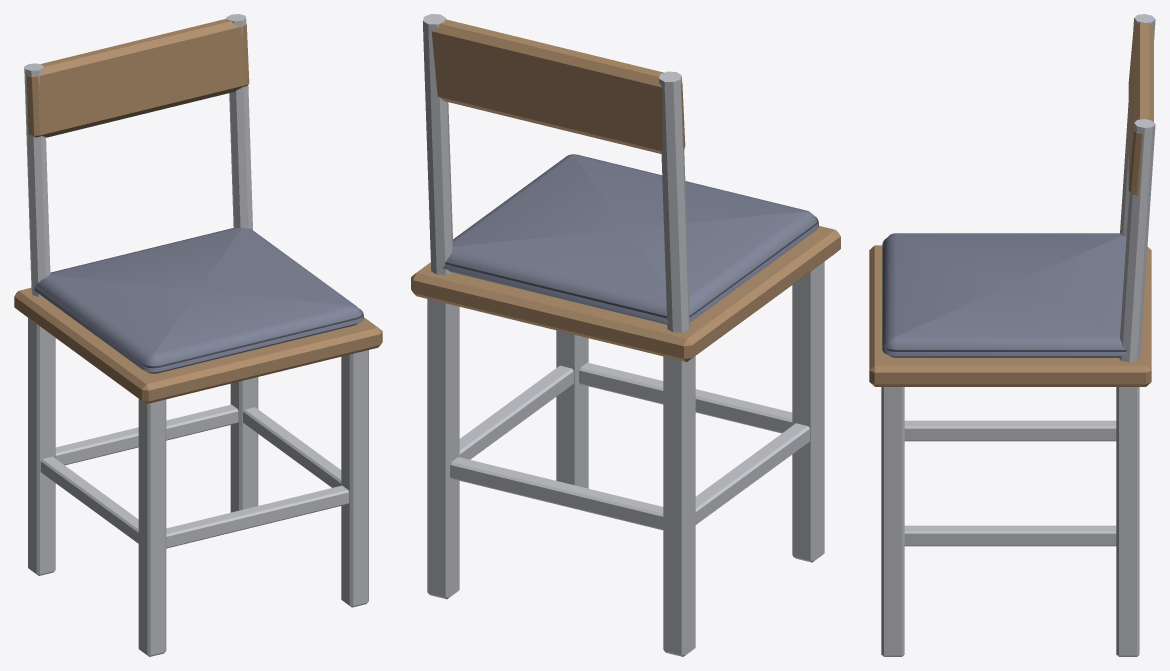
The model's file is orchestra-and-band-instruments-performer-chair-11cd605f__39309.glb.
The picture shows the model from 3 angles, left to right: view 1: azimuth 30°, elevation 25°; view 2: azimuth 150°, elevation 25°; view 3: azimuth 270°, elevation 25°; orthographic projection. The views are drawn at different scales.
Visible parts, largest first — view 1: performer-chair; view 2: performer-chair; view 3: performer-chair.
Boxes of the visible parts, x1,y1,x2,y2 form: performer-chair: (14,14,382,656); performer-chair: (411,14,840,656); performer-chair: (869,14,1155,656).
Size of the model in its own units: 0.44 by 0.871 by 0.426.
